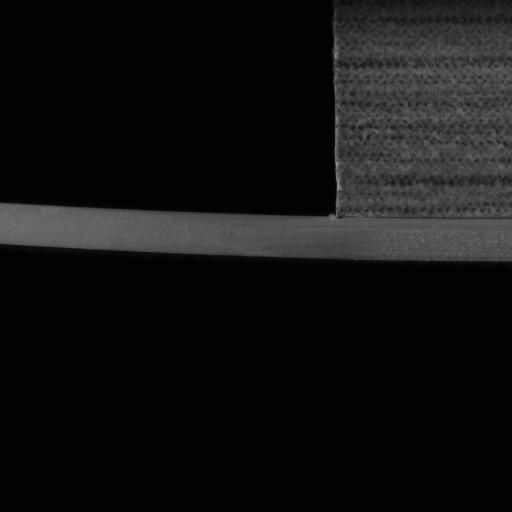changdai: (0, 202, 337, 262)
